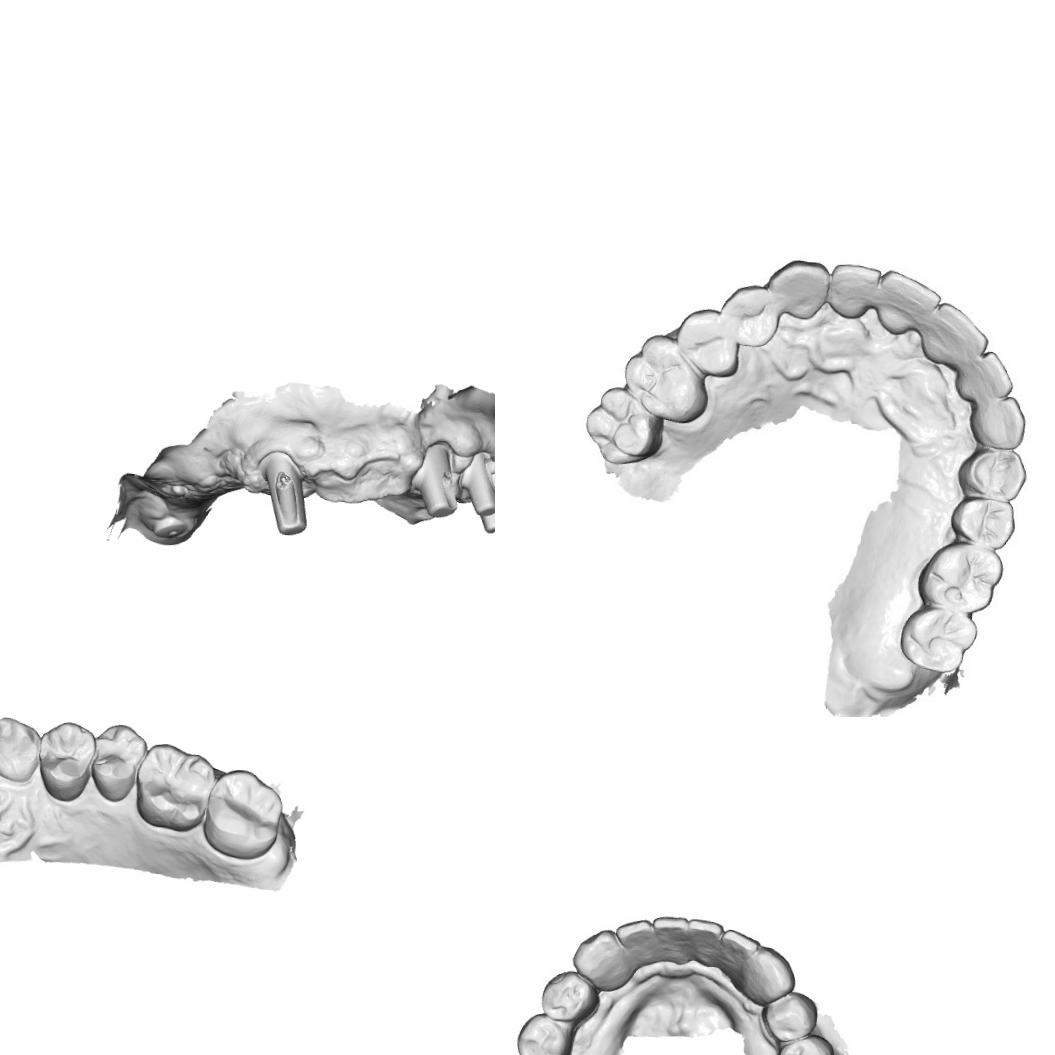abutment: (254, 449, 312, 539), (408, 436, 468, 520), (461, 448, 495, 517), (487, 458, 495, 521), (477, 507, 495, 535)
canine: (570, 928, 632, 994), (768, 256, 824, 318), (739, 944, 796, 1004), (968, 394, 1029, 449), (0, 717, 40, 785)
implant: (150, 509, 189, 541)
incisor: (920, 302, 989, 373), (877, 270, 942, 334), (826, 260, 882, 318), (954, 348, 1012, 400), (649, 914, 690, 966), (613, 916, 654, 967), (685, 916, 723, 967), (719, 926, 761, 968)
molar: (198, 766, 288, 862), (131, 740, 217, 834), (621, 336, 706, 419), (585, 386, 657, 459), (898, 604, 975, 672), (924, 546, 998, 610)
premolar: (33, 717, 95, 801), (86, 722, 146, 804), (719, 284, 779, 347), (682, 308, 736, 374), (538, 968, 601, 1024), (758, 988, 818, 1044), (963, 448, 1028, 497), (954, 497, 1011, 546), (514, 1010, 573, 1055), (776, 1034, 835, 1055)
